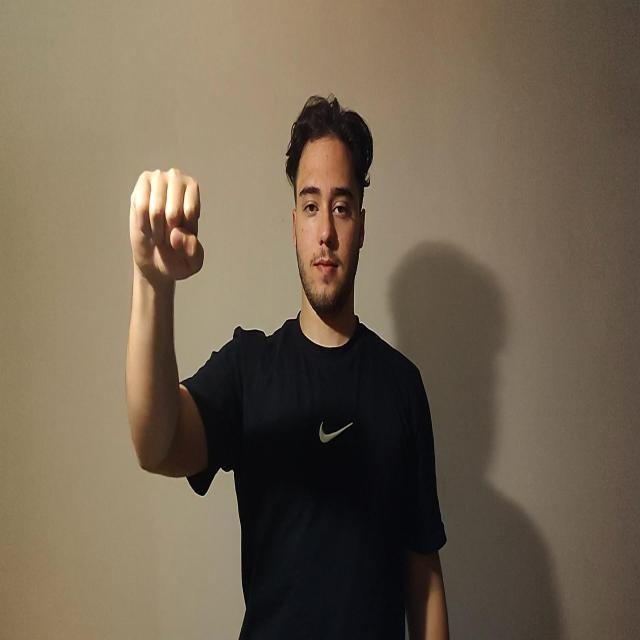yes: (129, 166, 204, 287)
